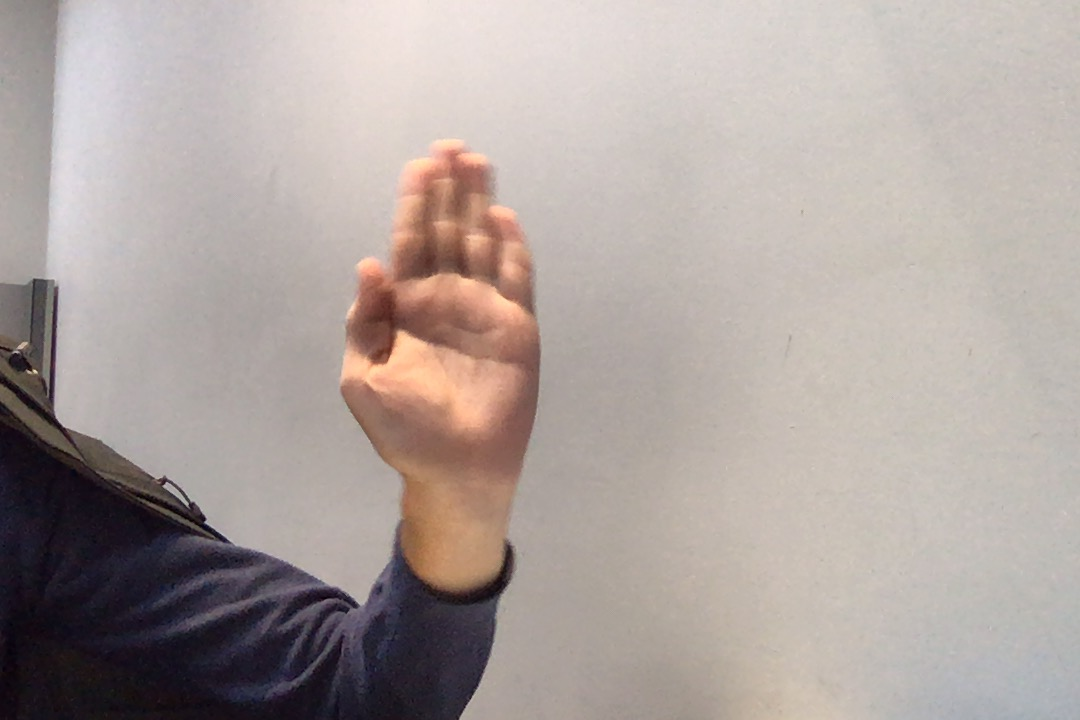palmhand: (321, 119, 571, 506)
